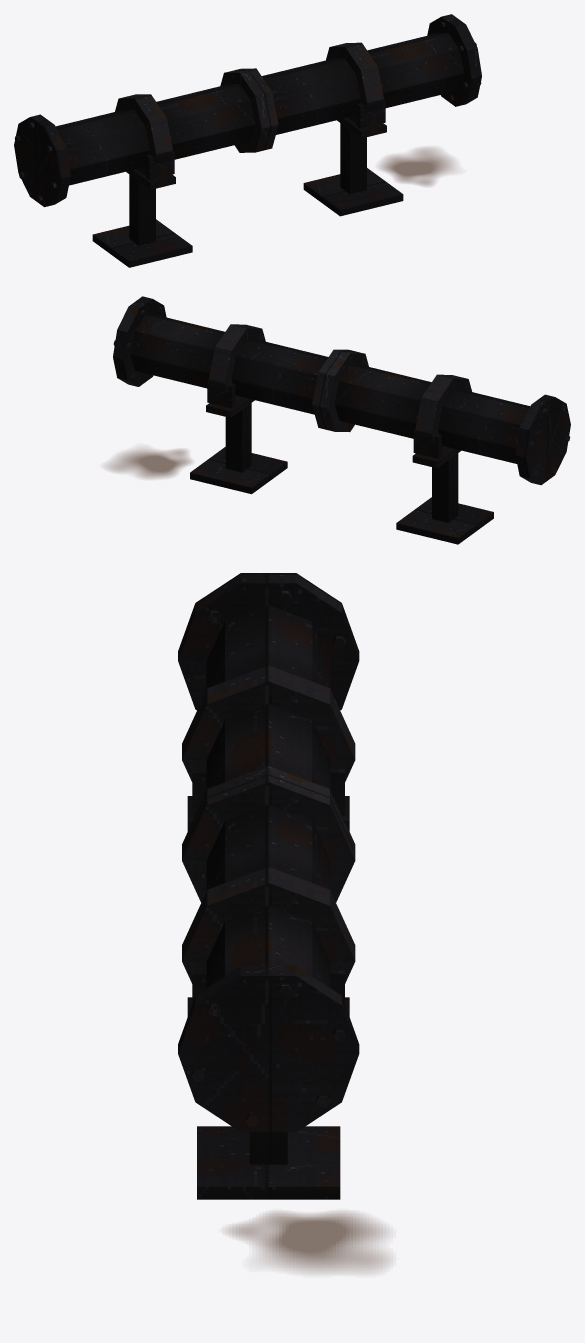
Rendered from pipe_straight.glb.
The picture shows the model from 3 angles, top to bottom: view 1: azimuth 30°, elevation 25°; view 2: azimuth 150°, elevation 25°; view 3: azimuth 270°, elevation 25°; orthographic projection. The views are drawn at different scales.
Visible parts, largest first — view 1: body, decals; view 2: body, decals; view 3: body, decals.
Boxes of the visible parts, bbox=[...] form: body: bbox=[14, 14, 481, 267]; decals: bbox=[380, 148, 454, 185]; body: bbox=[113, 296, 570, 544]; decals: bbox=[107, 449, 191, 478]; body: bbox=[178, 573, 359, 1199]; decals: bbox=[228, 1212, 388, 1272].
Size of what is drawn, in the model's own units: 2.31 by 0.682 by 0.9.
Materials: 3 (3 with a texture image).
